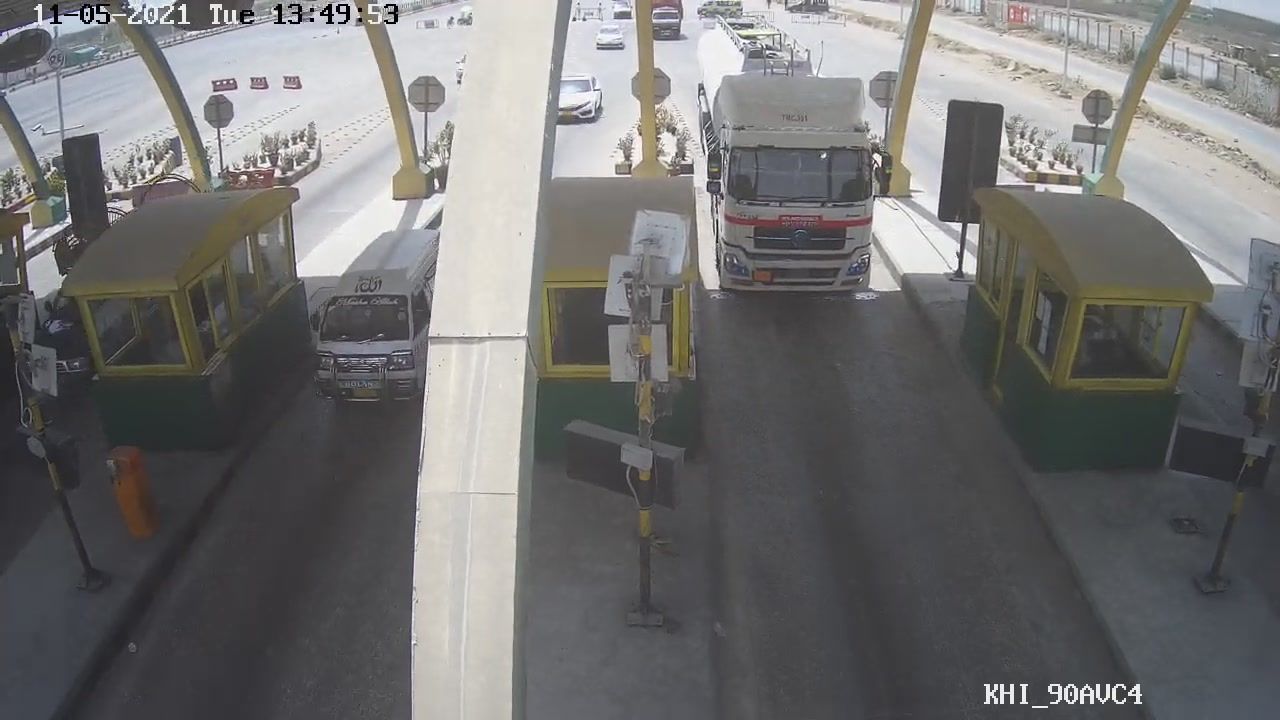F6: (694, 24, 898, 299)
